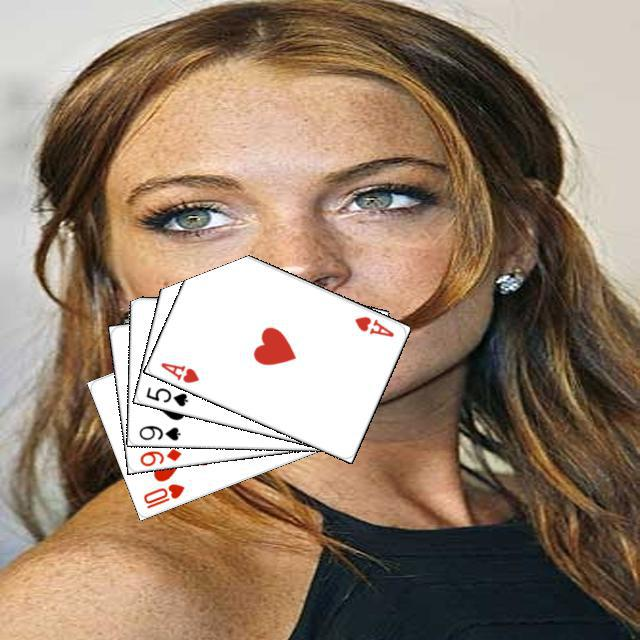10h: (138, 479, 186, 510)
5s: (141, 382, 190, 408)
9d: (135, 444, 183, 467)
9s: (134, 420, 182, 442)
Ah: (350, 311, 396, 339), (156, 357, 201, 385)
